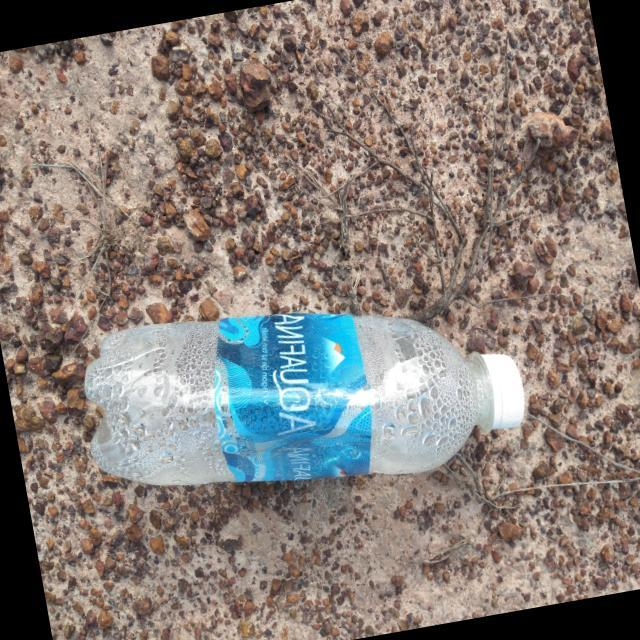defected: (46, 242, 538, 550)
